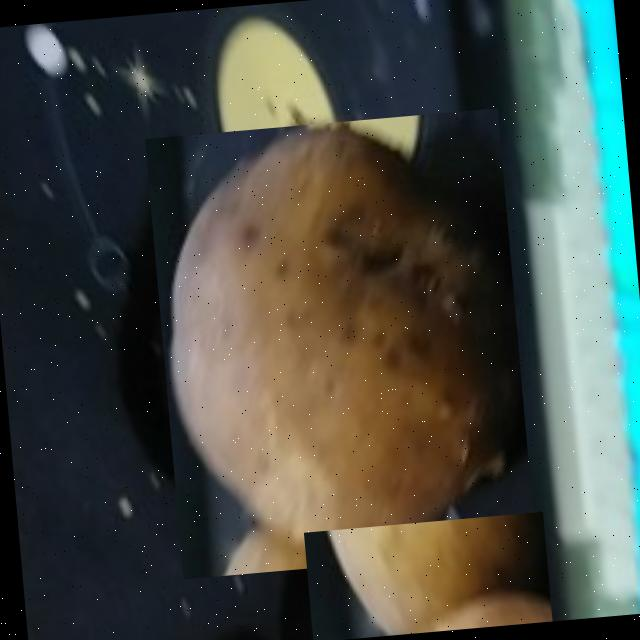Damaged potato: (143, 108, 534, 579)
Potato: (302, 511, 551, 640)
